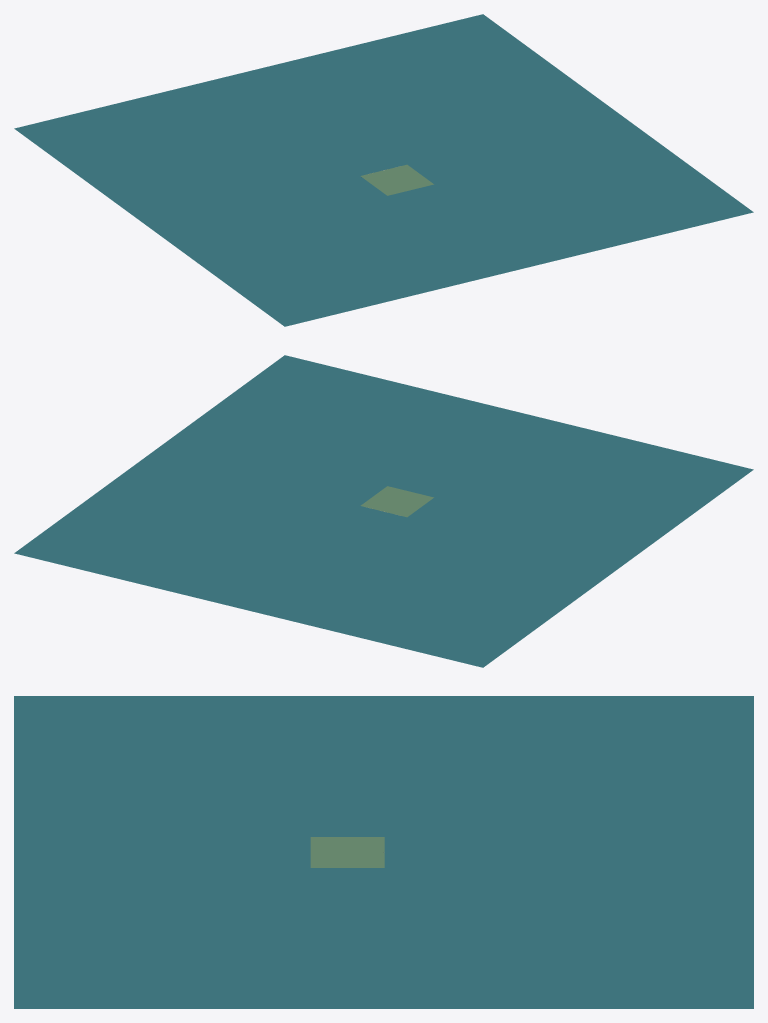
File: city-finished.glb
The picture shows the model from 3 angles, top to bottom: view 1: azimuth 30°, elevation 25°; view 2: azimuth 150°, elevation 25°; view 3: azimuth 270°, elevation 25°; orthographic projection. The views are drawn at different scales.
Parts seen in each view (by area): view 1: island roads sand promenade; view 2: island roads sand promenade; view 3: island roads sand promenade.
Part boxes in pixels (x1=…): island roads sand promenade: x1=14, y1=14, x2=753, y2=326; island roads sand promenade: x1=14, y1=355, x2=753, y2=667; island roads sand promenade: x1=14, y1=696, x2=753, y2=1008.
Bounding box in the file's own units: 200000 × 78.1 × 200000.
